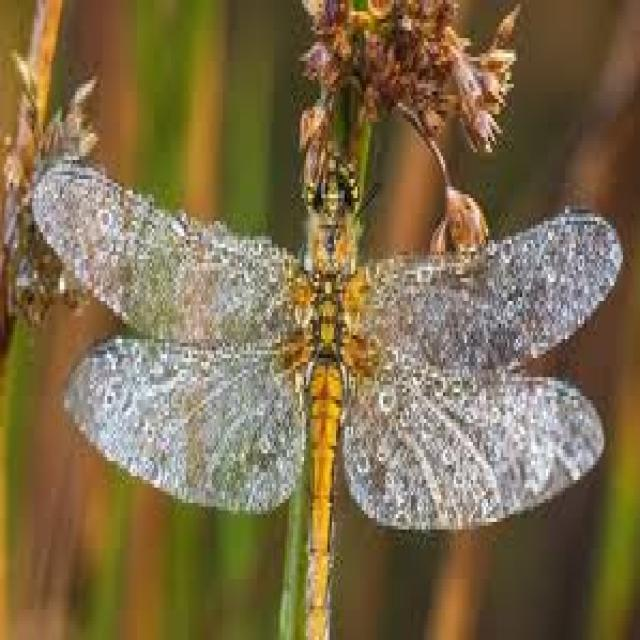dragonfly: (32, 156, 621, 636)
